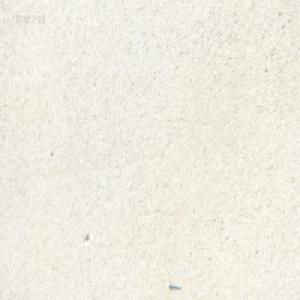Nail: (168, 280, 180, 288)
